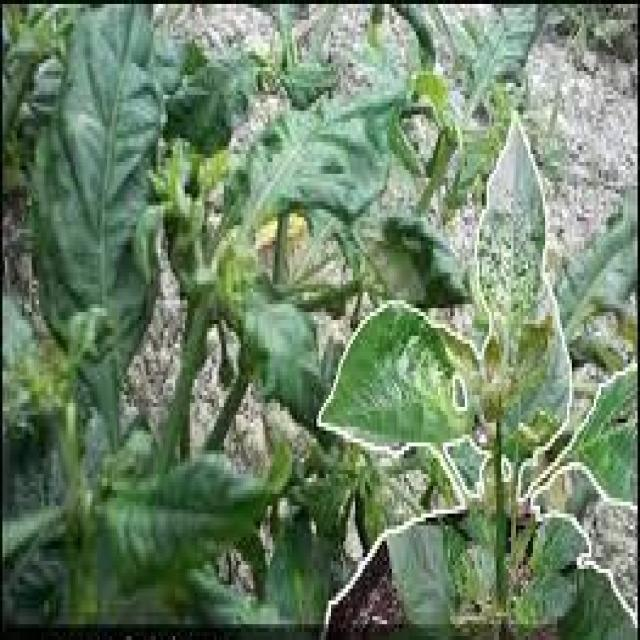Nutirtion_deficie: (146, 105, 265, 348), (322, 295, 472, 473), (456, 108, 543, 386)
